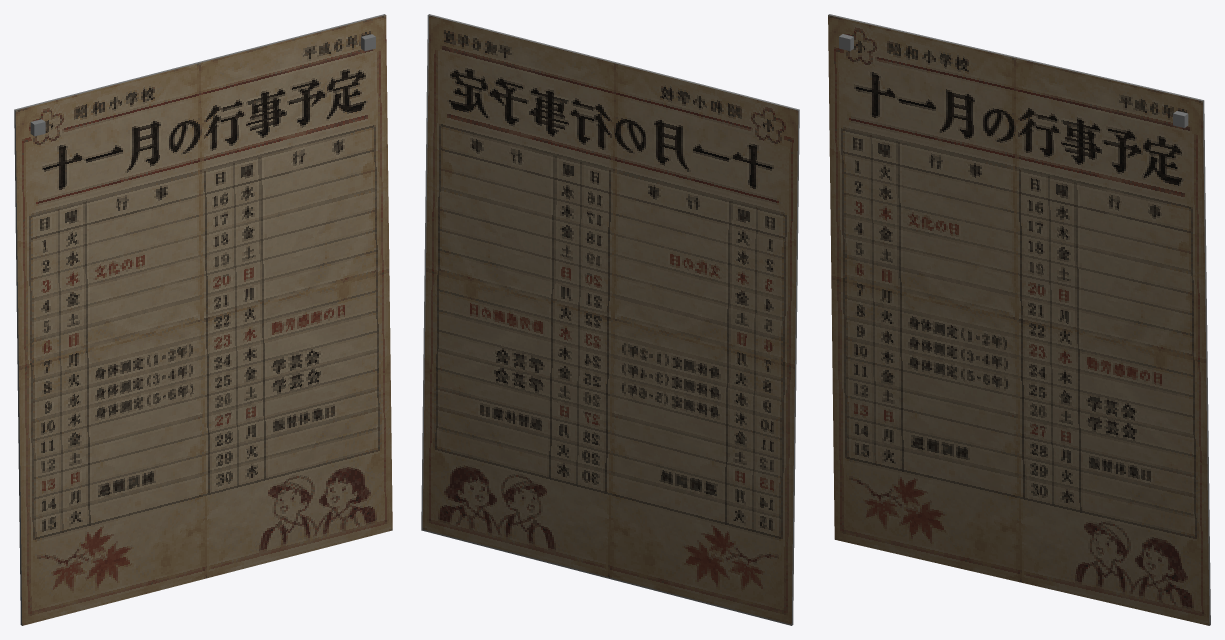
Rendered from prop_poster-gyoji-0.glb.
3 renders of one model, left to right at view 1: azimuth 30°, elevation 25°; view 2: azimuth 150°, elevation 25°; view 3: azimuth 330°, elevation 25°, orthographic.
Parts seen in each view (by area): view 1: prop_poster-gyoji-0; view 2: prop_poster-gyoji-0; view 3: prop_poster-gyoji-0.
Boxes of the visible parts, left/top/right/bottom form: prop_poster-gyoji-0: left=14, top=14, right=392, bottom=625; prop_poster-gyoji-0: left=421, top=14, right=799, bottom=625; prop_poster-gyoji-0: left=828, top=14, right=1210, bottom=625.
Bounding box in the file's own units: 0.4689 × 0.6205 × 0.0115.
2 materials, 2 textured.
